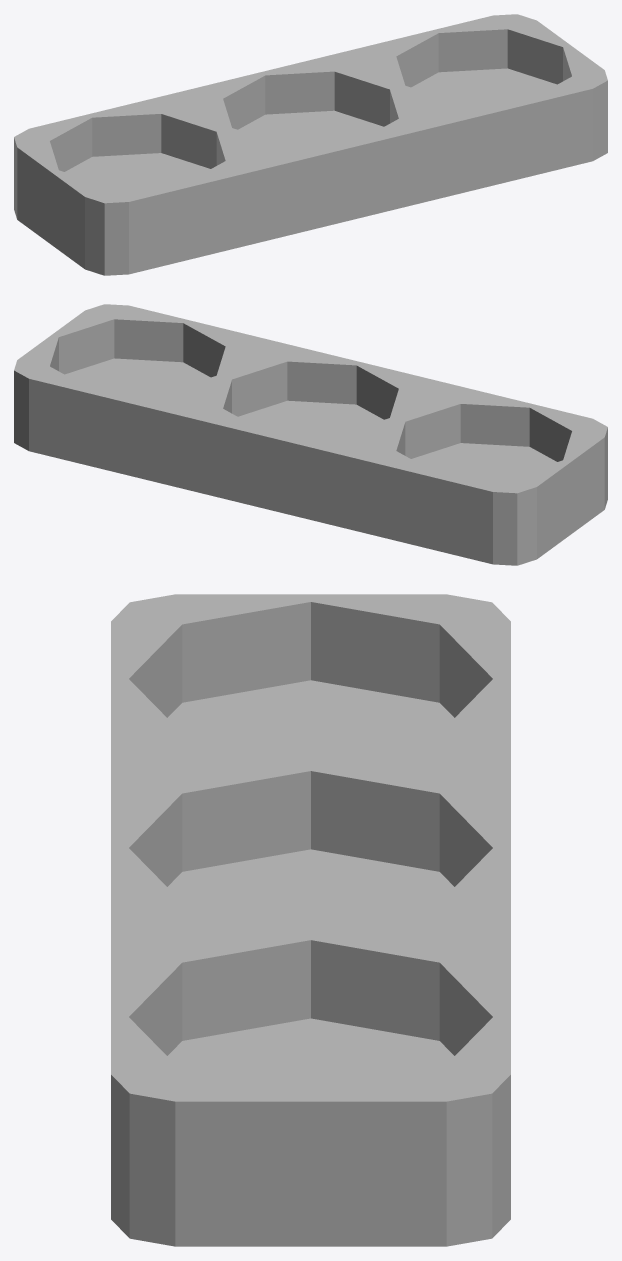
Rendered from Props_PowerSocket_01.fbx.
3 views of the same model, one above another, from view 1: azimuth 30°, elevation 25°; view 2: azimuth 150°, elevation 25°; view 3: azimuth 270°, elevation 25° (orthographic). The views are drawn at different scales.
Visible parts, largest first — view 1: Props_PowerSocket_01; view 2: Props_PowerSocket_01; view 3: Props_PowerSocket_01.
Boxes of the visible parts, x1,y1,x2,y2 form: Props_PowerSocket_01: [14, 14, 607, 275]; Props_PowerSocket_01: [14, 304, 607, 565]; Props_PowerSocket_01: [111, 594, 510, 1246].
Bounding box in the file's own units: 71.07 × 9.48 × 23.69.
